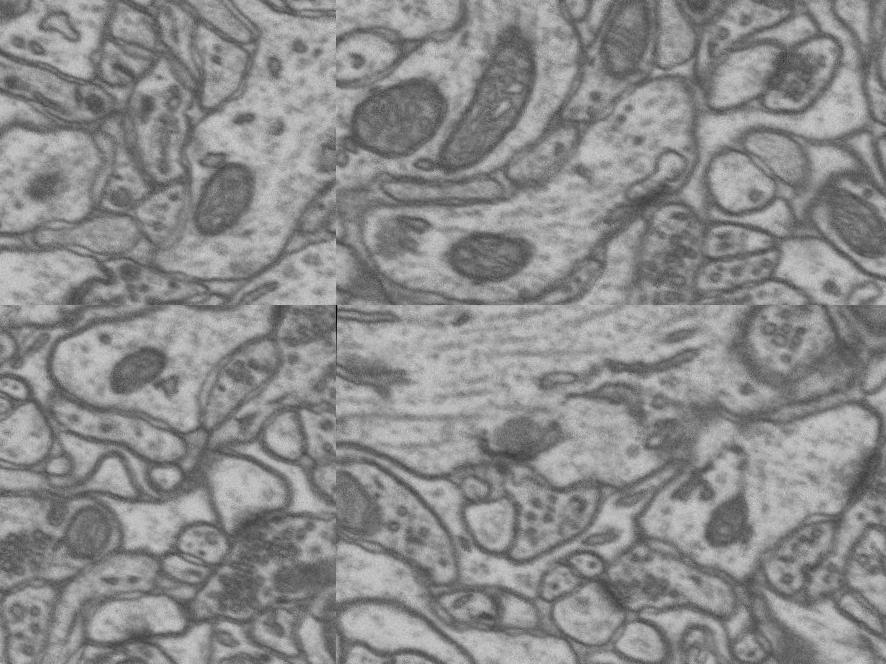mitochondria: (436, 22, 540, 178), (343, 64, 452, 164), (182, 158, 268, 244), (808, 178, 886, 263), (436, 226, 533, 287), (38, 510, 105, 588), (594, 0, 658, 79), (286, 566, 336, 664), (700, 469, 758, 542), (823, 305, 886, 371), (119, 326, 180, 386), (754, 305, 824, 352), (336, 453, 373, 534), (205, 642, 279, 664), (671, 0, 722, 16)
